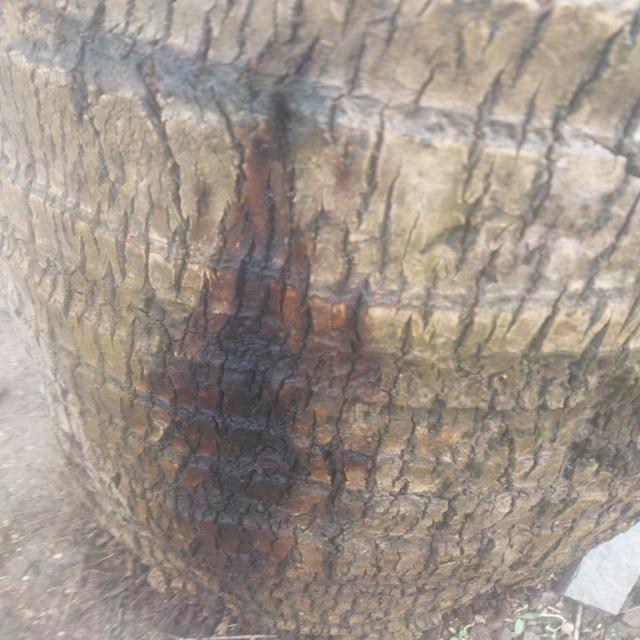stembleeding: (114, 107, 373, 605)
